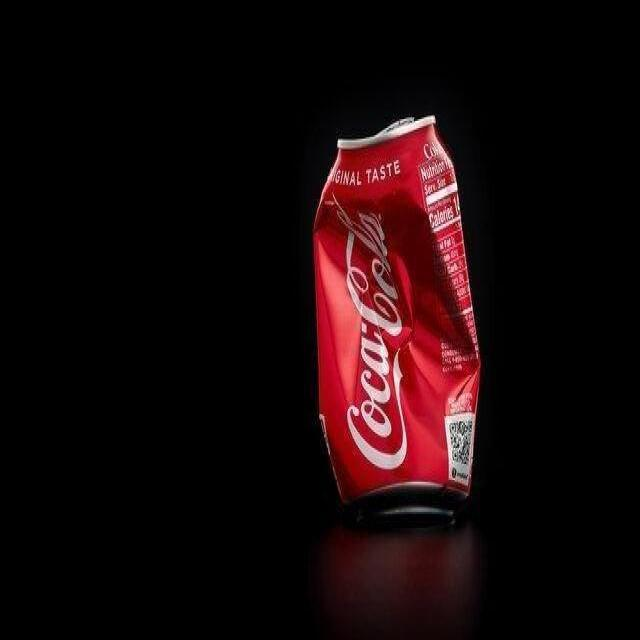tin can: (312, 112, 484, 524)
